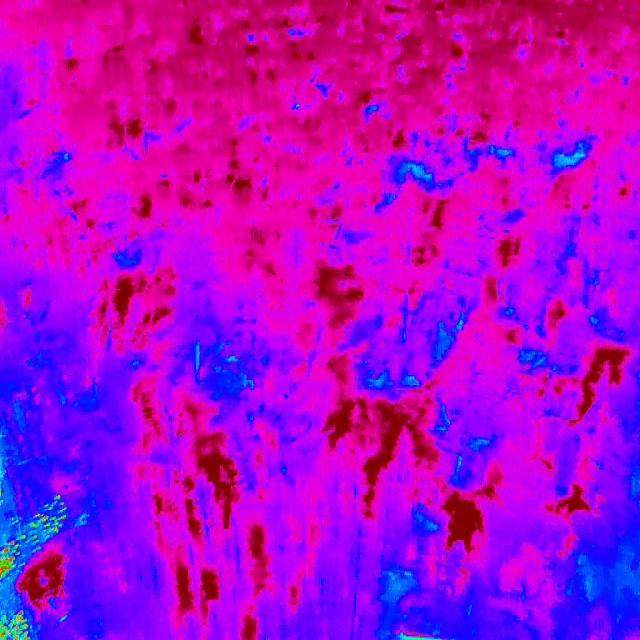fire: (0, 495, 65, 585), (0, 608, 42, 640)
